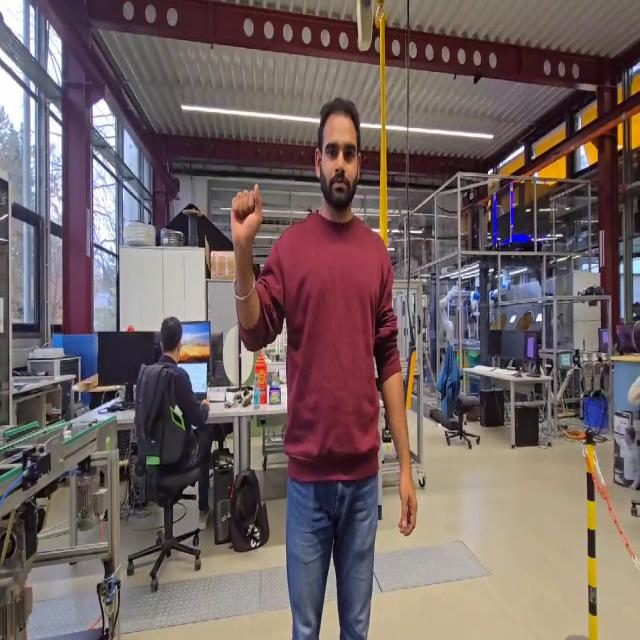closed_fist: (228, 181, 266, 250)
